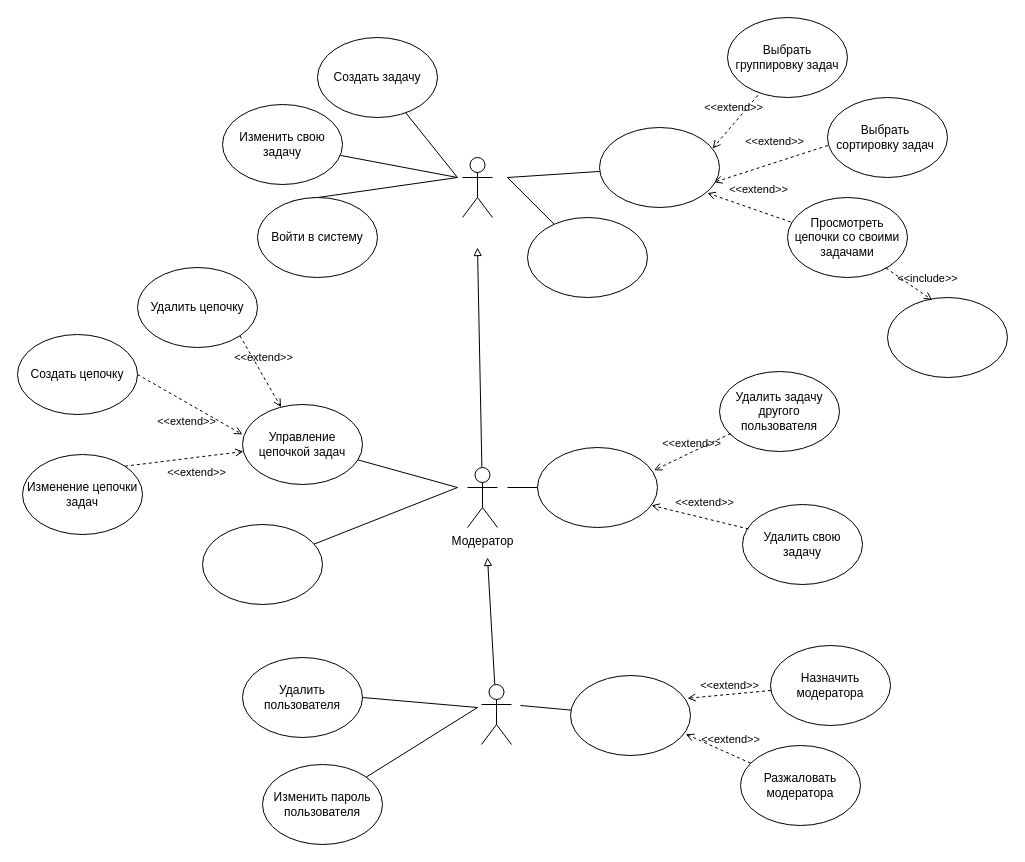
Some shapes in this 1025 by 862 pixel diagram are drawn without their labels. Here are the shapes that lost their labels. From the top down, the box of each, then its label:
(462, 156, 492, 218): Пользователь
(598, 126, 720, 208): Просмотреть список своих задач
(526, 216, 648, 298): Зарегистрироваться в системе
(886, 296, 1008, 378): Отметить выполненную задачу
(536, 446, 658, 528): Удалить задачу
(202, 524, 322, 604): Изменить задачу другого пользователя
(480, 684, 512, 744): Администратор
(570, 674, 690, 756): Действие с модераторами
